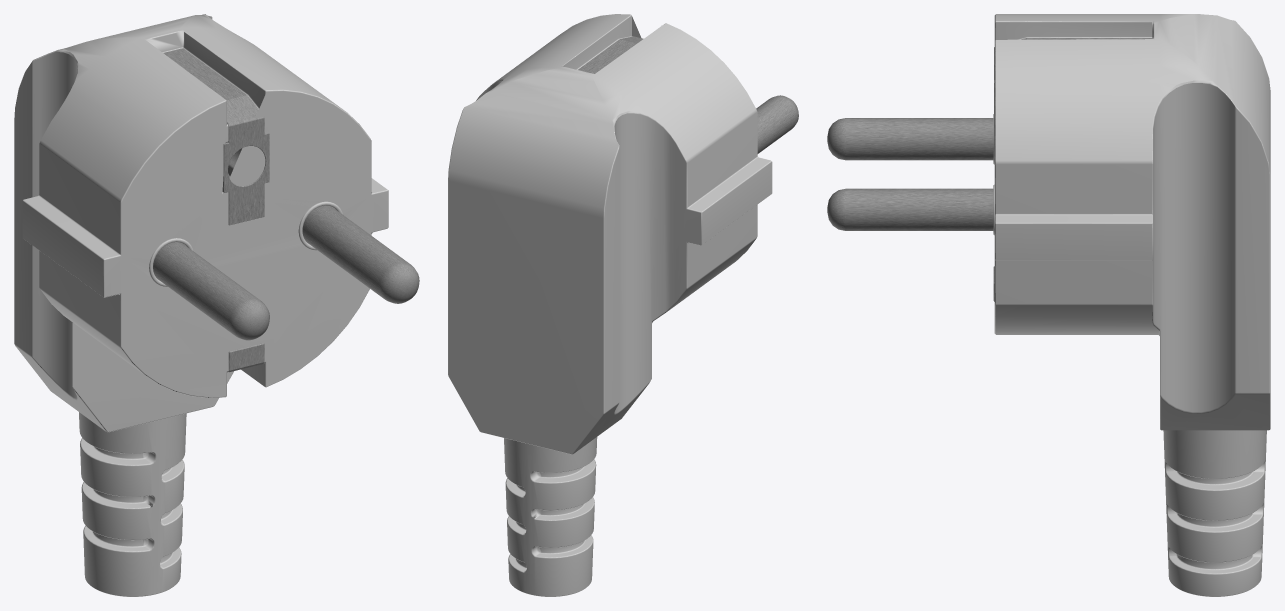
Rendered from plug01.obj.
The picture shows the model from 3 angles, left to right: view 1: azimuth 30°, elevation 25°; view 2: azimuth 150°, elevation 25°; view 3: azimuth 270°, elevation 25°; orthographic projection. The views are drawn at different scales.
Visible parts, largest first — view 1: 220_volt_safety_plug_type_CEE_7/7; view 2: 220_volt_safety_plug_type_CEE_7/7; view 3: 220_volt_safety_plug_type_CEE_7/7.
Boxes of the visible parts, box(x1,y1,x2,y2) form: 220_volt_safety_plug_type_CEE_7/7: box(14, 14, 419, 596); 220_volt_safety_plug_type_CEE_7/7: box(448, 14, 798, 596); 220_volt_safety_plug_type_CEE_7/7: box(827, 14, 1270, 596).
Bounding box in the file's own units: 0.0363 × 0.0687 × 0.0503.
2 materials, 1 textured.
